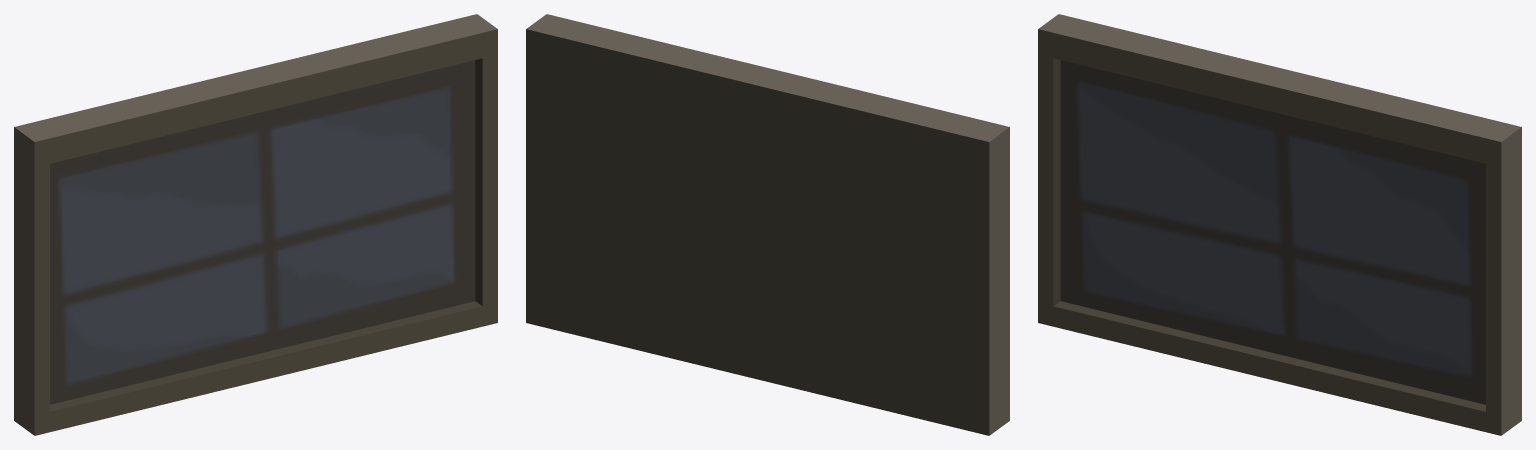
Rendered from Window_C14.fbx.
The picture shows the model from 3 angles, left to right: view 1: azimuth 30°, elevation 25°; view 2: azimuth 150°, elevation 25°; view 3: azimuth 330°, elevation 25°; orthographic projection.
Visible parts, largest first — view 1: Window_C14; view 2: Window_C14; view 3: Window_C14.
Boxes of the visible parts, x1,y1,x2,y2 form: Window_C14: (14, 14, 497, 435); Window_C14: (526, 14, 1009, 435); Window_C14: (1038, 14, 1521, 435).
Bounding box in the file's own units: 375 × 227 × 28.95.
